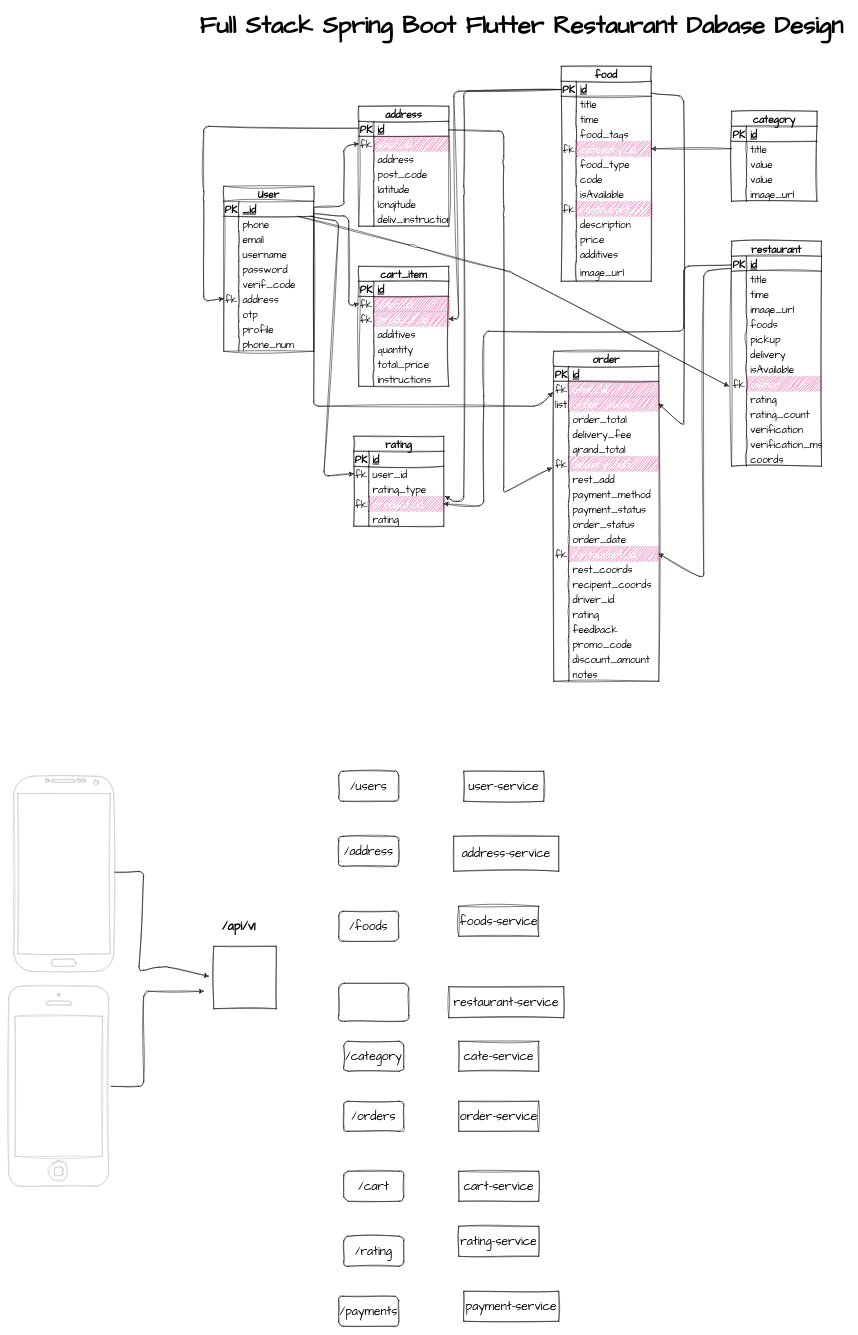
Some shapes in this 858 by 1335 pixel diagram are drawn without their labels. The centre of each missing label's shape, as x and y in pixels:
"/restaurant" goes at (x=373, y=1002).
"Backend server" goes at (x=244, y=977).
